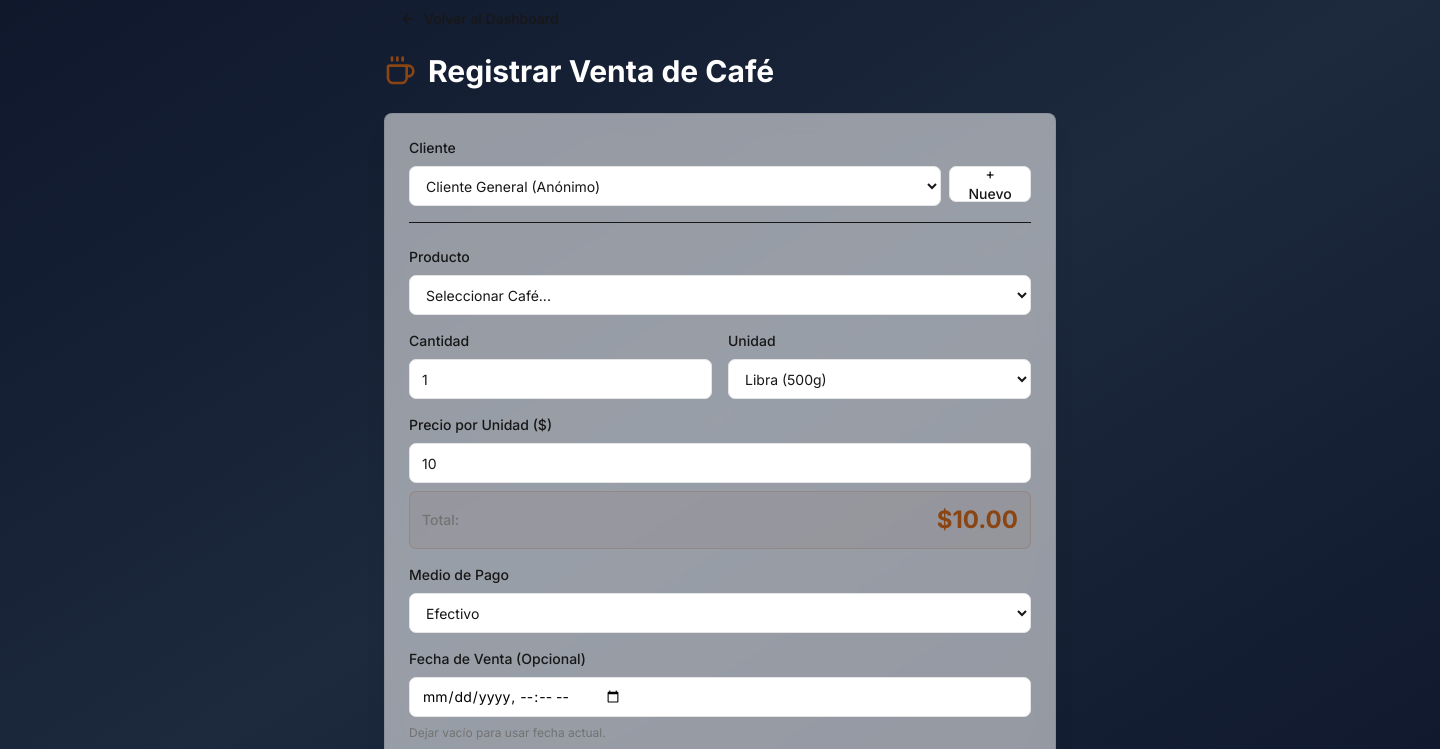
Test: NuevaVentaPage › Form Validation › should show error when price is 0
This screenshot has width=1440, height=749.
Note: Select product
Select "Cafe Especial" in the dropdown labelled "Producto". click: coordinates (720, 295)
box: [409, 275, 1031, 315]
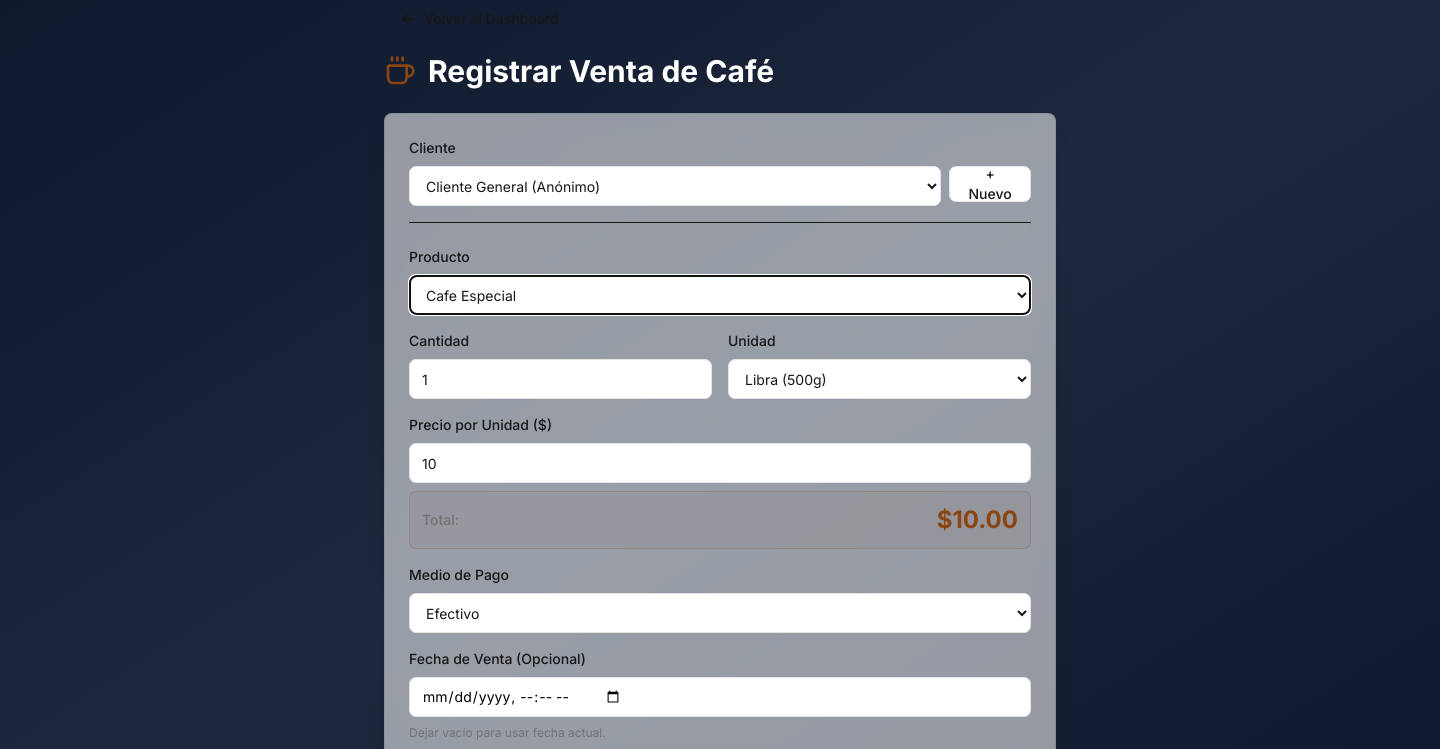
Note: Set price to 0
Replace the text in the number field labelled "Precio por Unidad ($)" with "0". click: coordinates (720, 463)
box: [409, 443, 1031, 483]
(page scrolled)
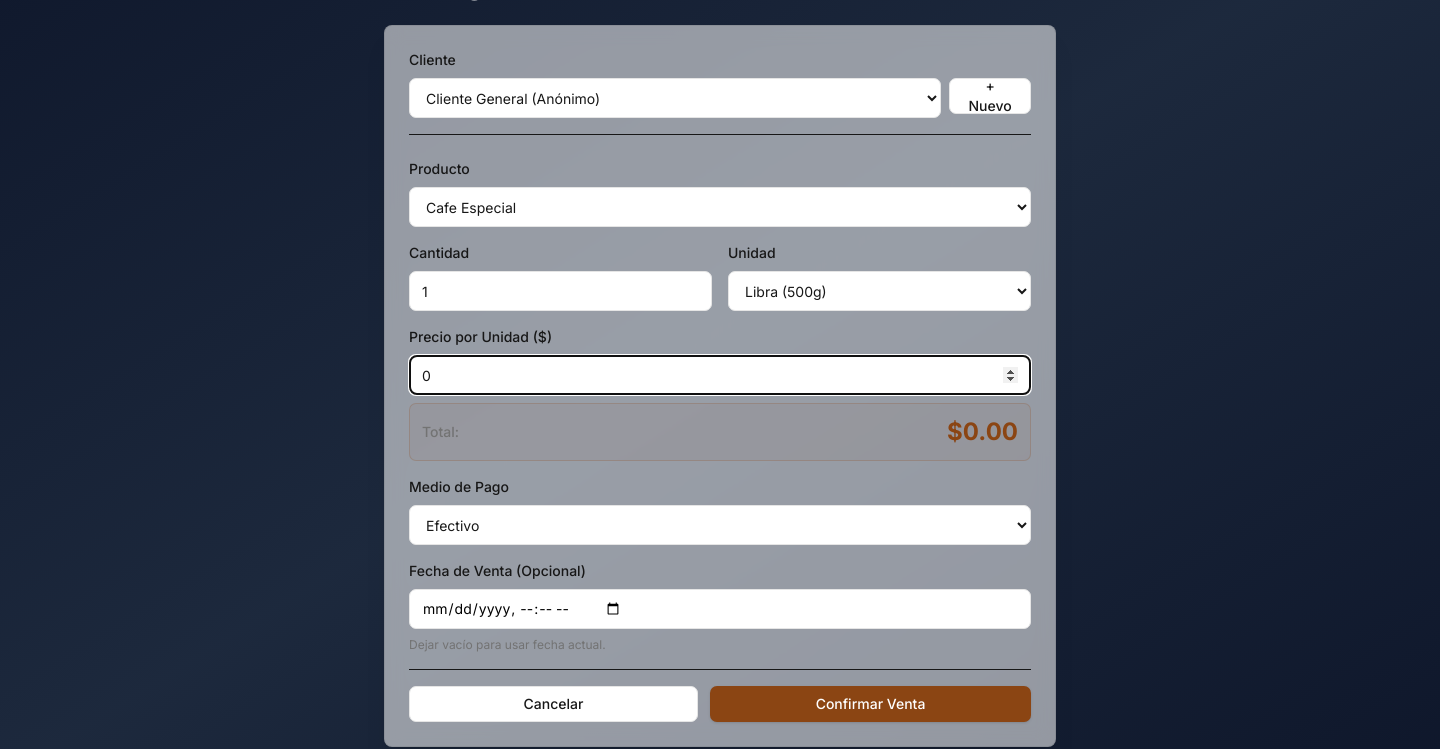
Click the button "Confirmar Venta". click: coordinates (870, 704)
box: [710, 686, 1031, 722]
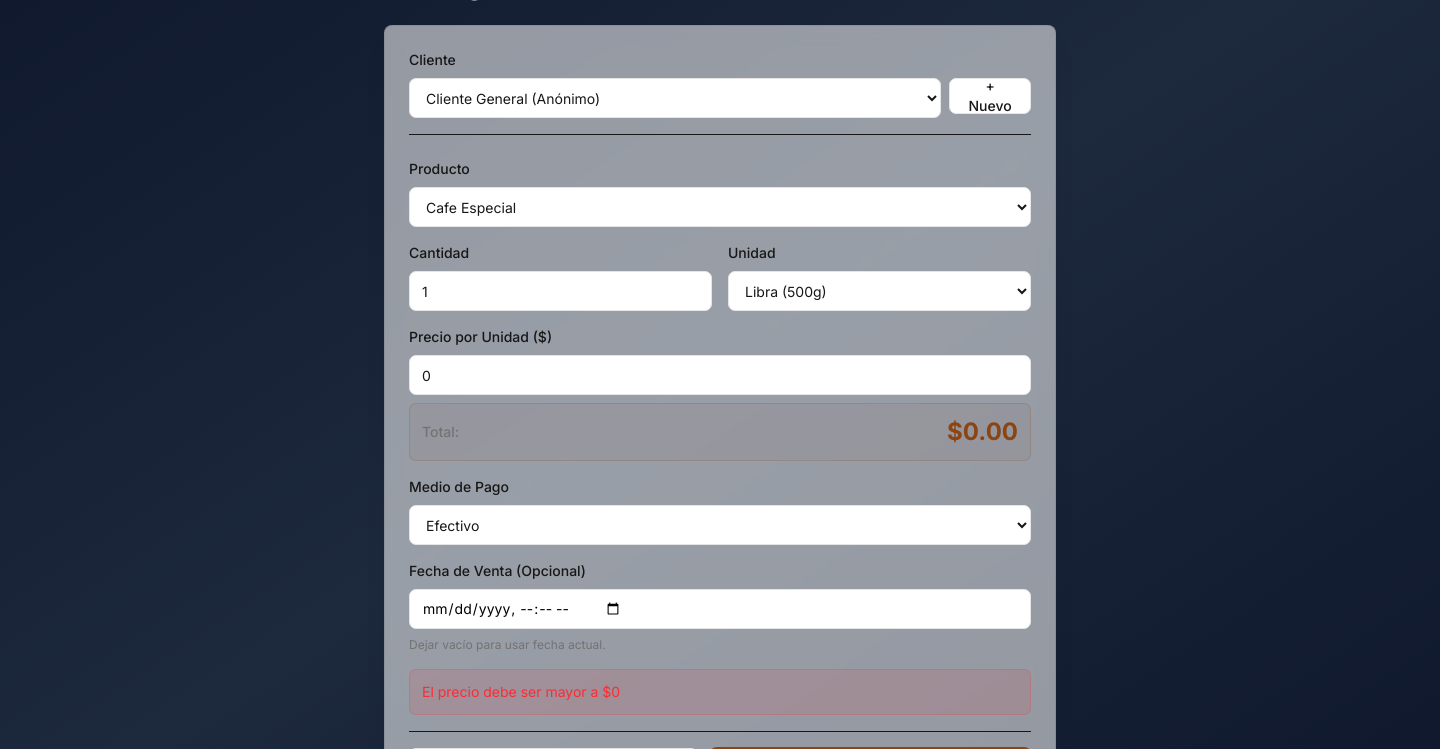
Result: the text "El precio debe ser mayor a $0" is shown at [409, 669, 1031, 715]
